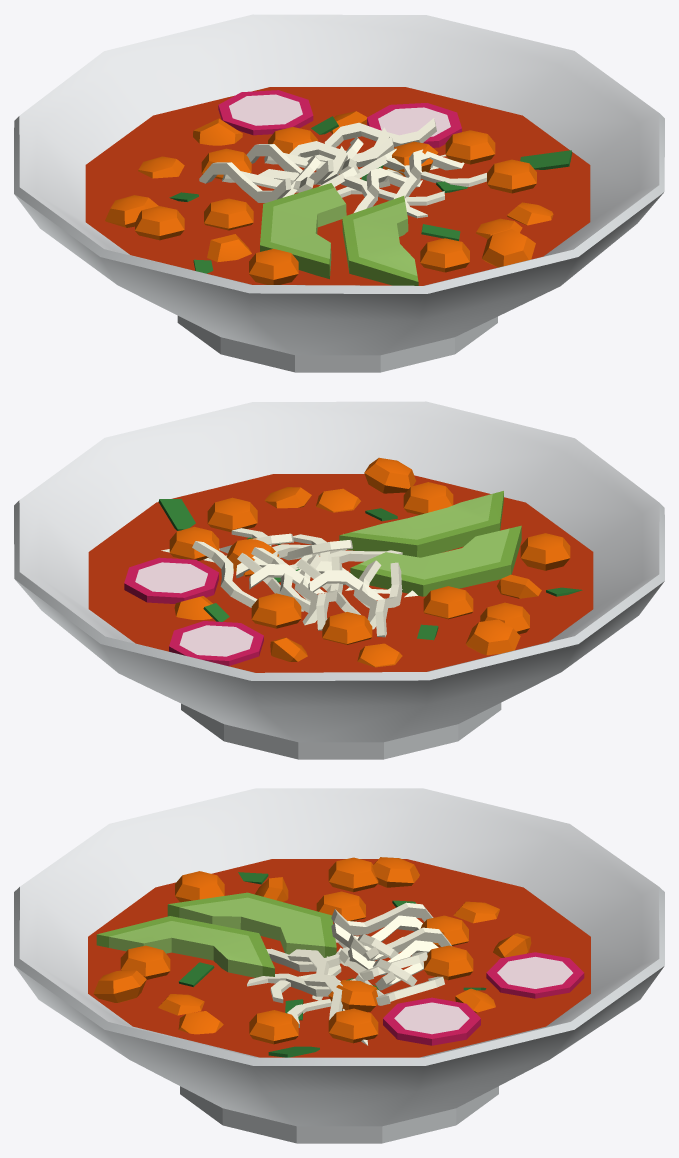
Rendered from MXC_Food_Pozole.fbx.
3 views of the same model, one above another, from view 1: azimuth 30°, elevation 25°; view 2: azimuth 150°, elevation 25°; view 3: azimuth 270°, elevation 25° (orthographic).
Visible parts, largest first — view 1: MXC_Food_Pozole; view 2: MXC_Food_Pozole; view 3: MXC_Food_Pozole.
Boxes of the visible parts, x1,y1,x2,y2 form: MXC_Food_Pozole: (14,14,664,372); MXC_Food_Pozole: (14,401,664,759); MXC_Food_Pozole: (14,788,664,1143).
Bounding box in the file's own units: 35.5 × 9.3 × 35.57.
